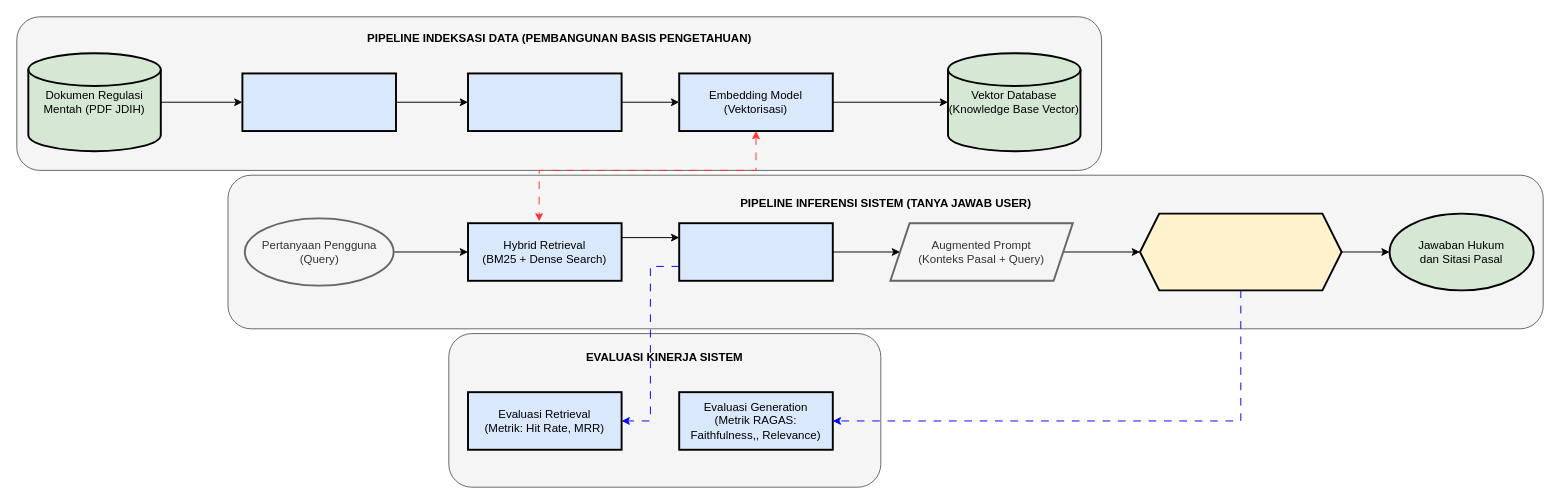
Image size: 1560x504. Some labels were removed from this diagram. The centre of each missing label's shape, as x and y in pixels:
Large Language Model (LLM - Generate Jawaban): the point at 1240,251
Preprocessing Teks (Cleaning & Normalisasi): the point at 318,102
Reciprocal Rank Fusion (RRF) & Re-ranking: the point at 755,251
Semantic Chunking (Pemotongan Berbasis Logika Pasal): the point at 544,102
